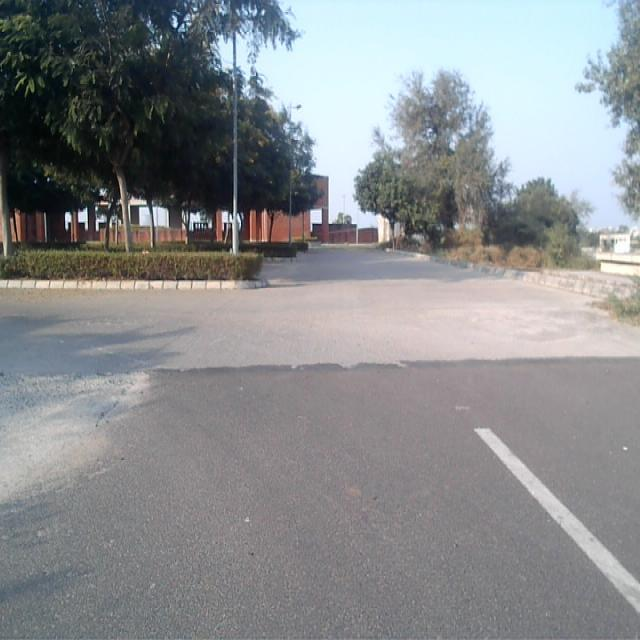lane: (0, 371, 640, 640)
